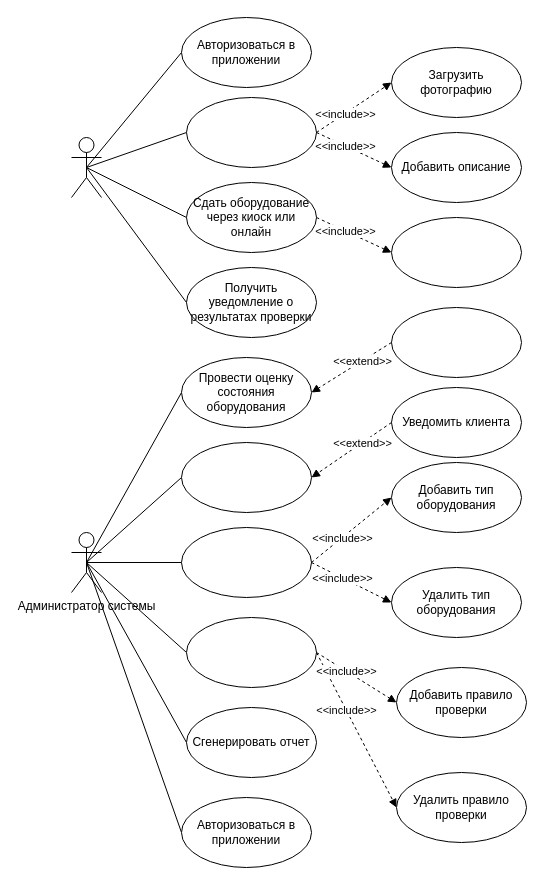
The diagram is 544 pixels wide and 885 high, and some of its shapes have lost their labels. The centre of each missing label's shape, as x and y in pixels:
Добавить комментарий для клиента: pixel 456 342
Клиент: pixel 86 167
Оставить заявку на передачу оборудования: pixel 456 252
Принять решение о переработке или перепродаже: pixel 246 477
Узнать оценочную стоимость оборудования: pixel 251 132
Управлять правилами проверки: pixel 251 652
Управлять типами оборудования: pixel 246 562
